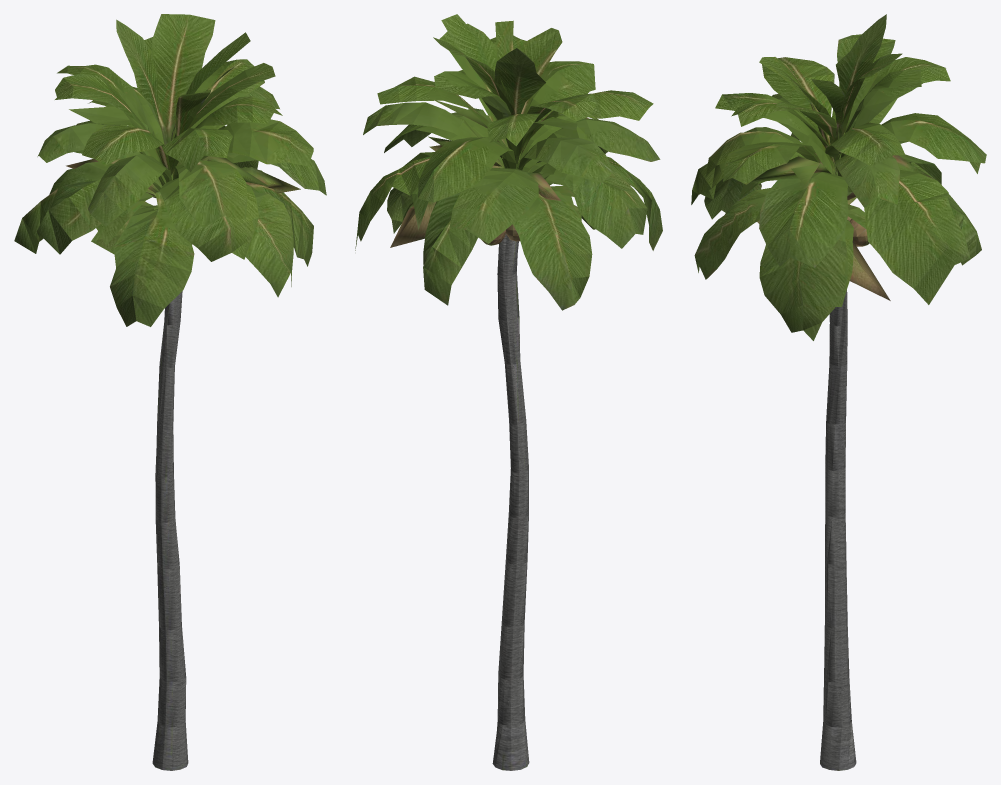
Rendered from palm.glb.
3 renders of one model, left to right at view 1: azimuth 30°, elevation 25°; view 2: azimuth 150°, elevation 25°; view 3: azimuth 270°, elevation 25°, orthographic.
Visible parts, largest first — view 1: Prop_palm; view 2: Prop_palm; view 3: Prop_palm.
Part boxes in pixels (left/top/right/bottom): Prop_palm: left=14, top=14, right=326, bottom=770; Prop_palm: left=355, top=14, right=662, bottom=770; Prop_palm: left=691, top=14, right=986, bottom=770.
Size of the model in its own units: 3.42 by 9 by 3.28.
1 material, 1 textured.
